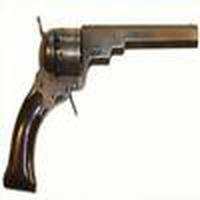gun: (2, 17, 200, 165)
